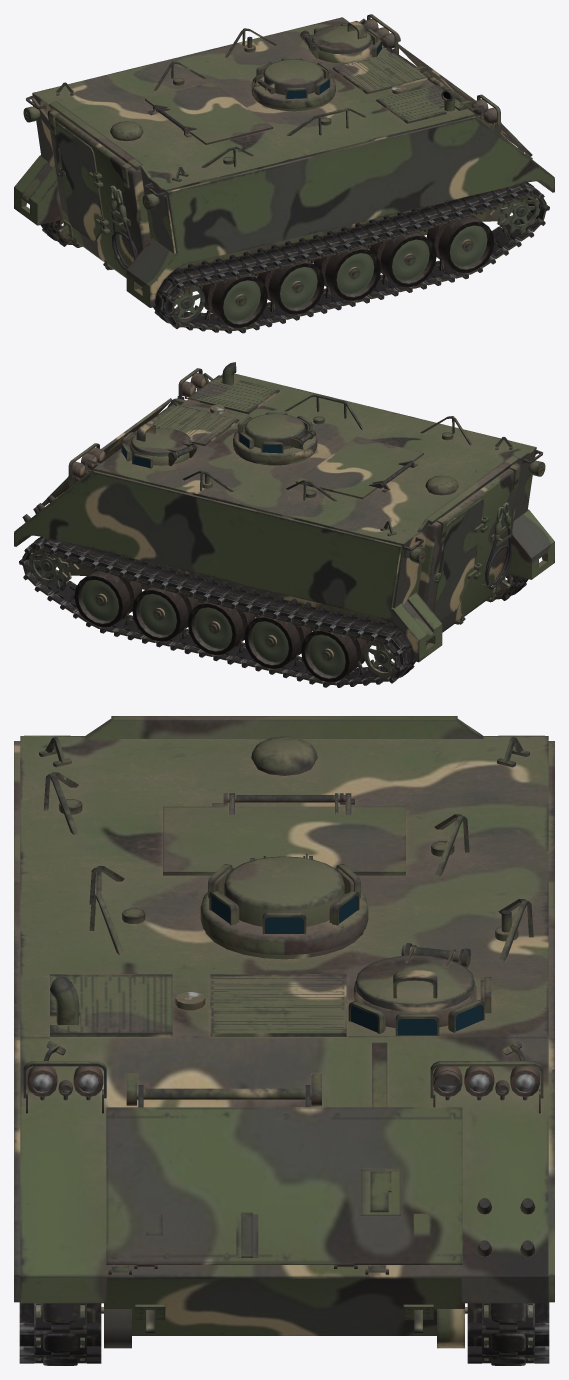
The picture shows the model from 3 angles, top to bottom: view 1: azimuth 30°, elevation 25°; view 2: azimuth 150°, elevation 25°; view 3: azimuth 270°, elevation 25°; orthographic projection. The views are drawn at different scales.
Visible parts, largest first — view 1: hull_2, hull_1, wheels_0, tracks_0; view 2: hull_2, hull_1, wheels_0, tracks_0; view 3: hull_2, hull_1, tracks_0.
Boxes of the visible parts, left/top/right/bottom form: hull_2: left=14, top=17, right=554, bottom=307; hull_1: left=32, top=14, right=532, bottom=290; wheels_0: left=61, top=188, right=540, bottom=328; tracks_0: left=40, top=182, right=549, bottom=333; hull_2: left=14, top=373, right=554, bottom=662; hull_1: left=22, top=362, right=521, bottom=645; wheels_0: left=28, top=542, right=507, bottom=682; tracks_0: left=19, top=536, right=528, bottom=687; hull_2: left=14, top=716, right=554, bottom=1348; hull_1: left=23, top=736, right=543, bottom=1333; tracks_0: left=19, top=1302, right=549, bottom=1365.
Bounding box in the file's own units: 4.86 × 2.12 × 2.82.
1 material, 1 textured.
